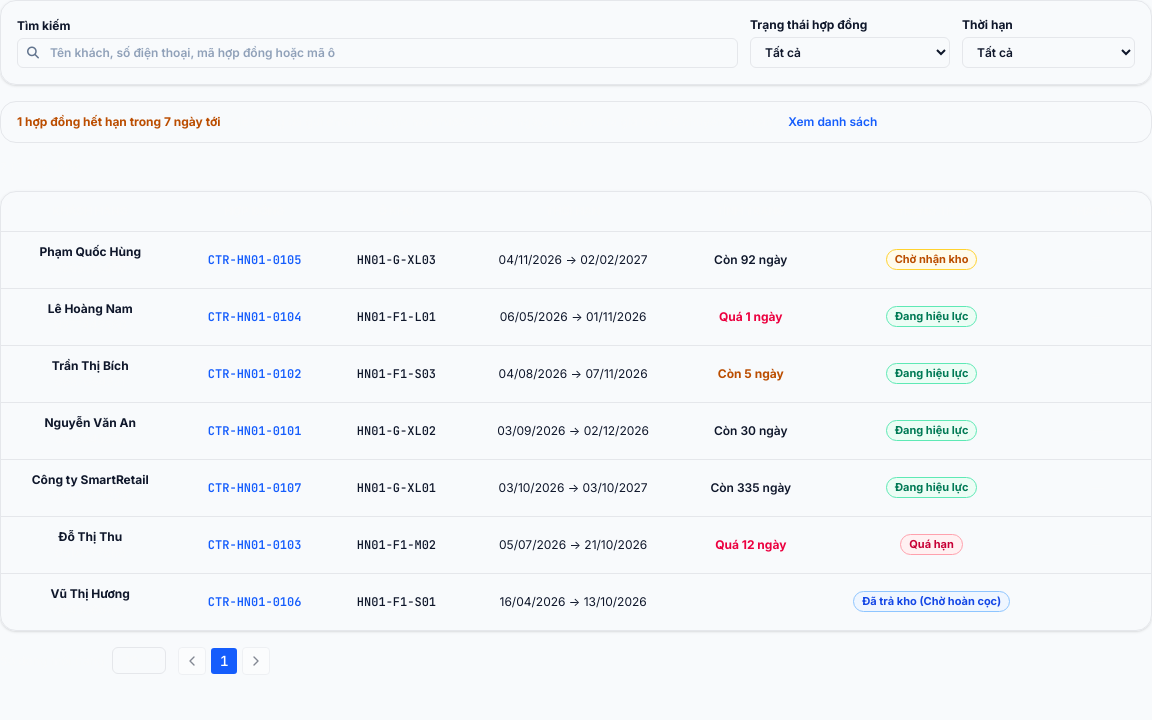
Chi tiết hợp đồng (bấm mã hợp đồng) › hiện khách, ô kho, thời hạn, tiền cọc, tiến độ trả kho và các khoản phạt kèm trạng thái
Click the button with aria-label "Xem chi tiết hợp đồng ": (255, 545) [208,537,301,553]
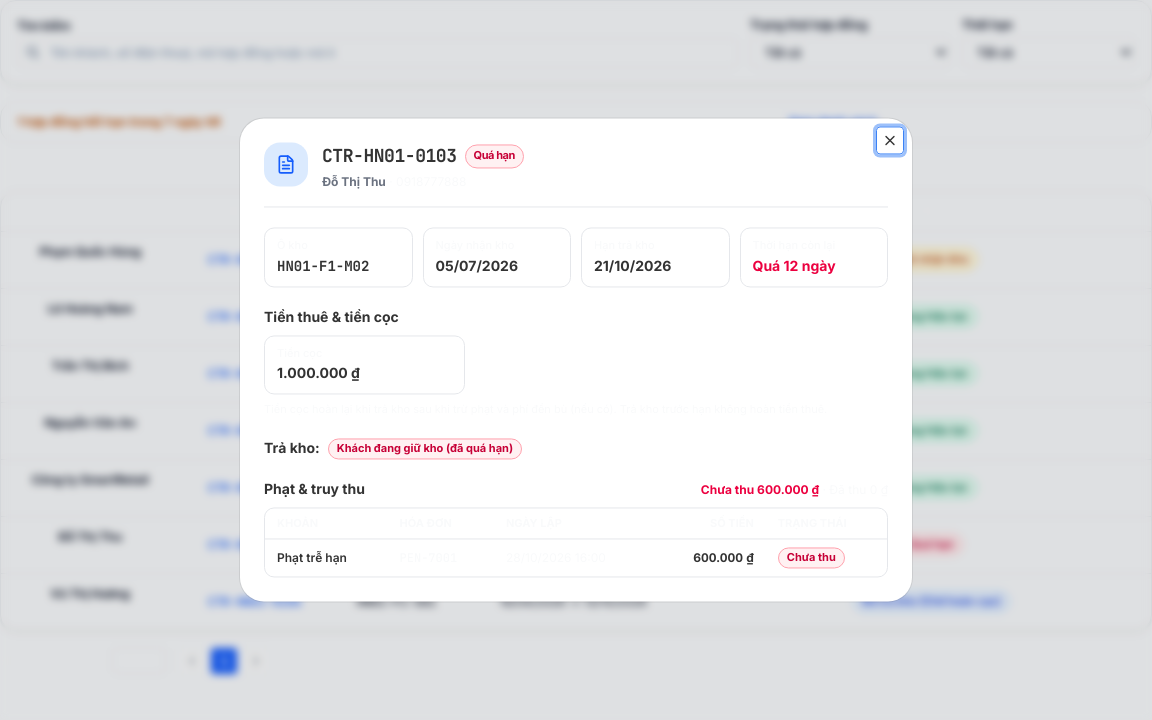
Result: the text "CTR-HN01-0103" is shown at [322,142,457,170]
Result: the text "Đỗ Thị Thu" is shown at [322,174,386,190]
Result: the text "Khách đang giữ kho (đã quá hạn)" is shown at [328,439,522,459]
